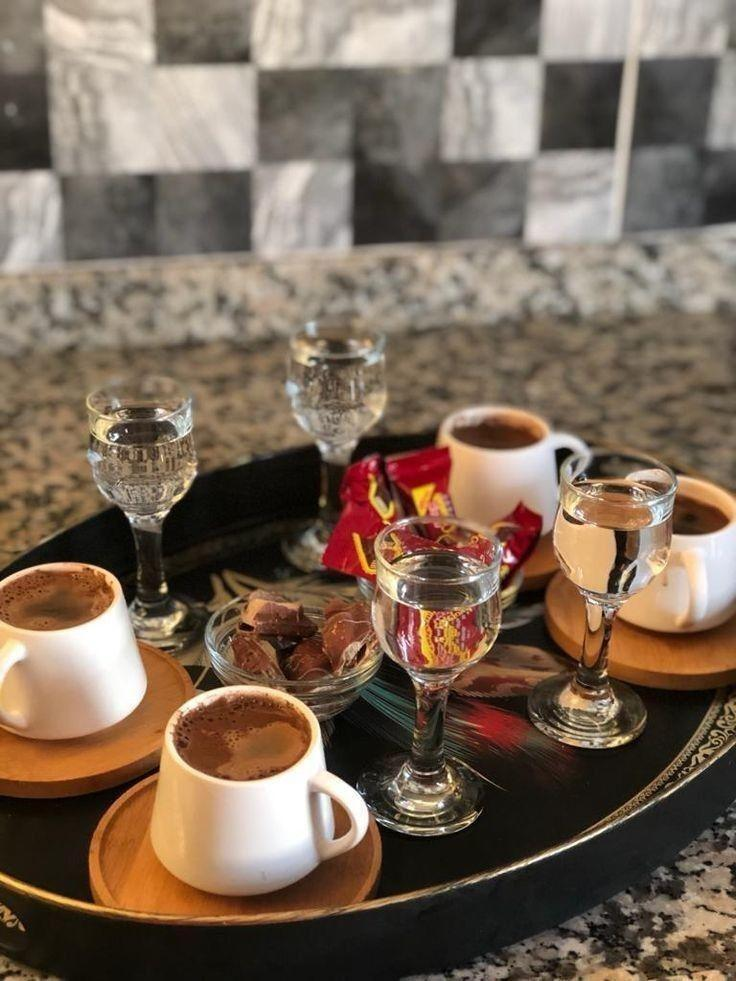cup-handle: (146, 682, 369, 896), (1, 560, 148, 743), (437, 404, 590, 529), (639, 476, 735, 636)
glass-wine: (361, 515, 505, 833), (527, 451, 678, 750), (84, 373, 208, 651), (281, 316, 390, 577)
